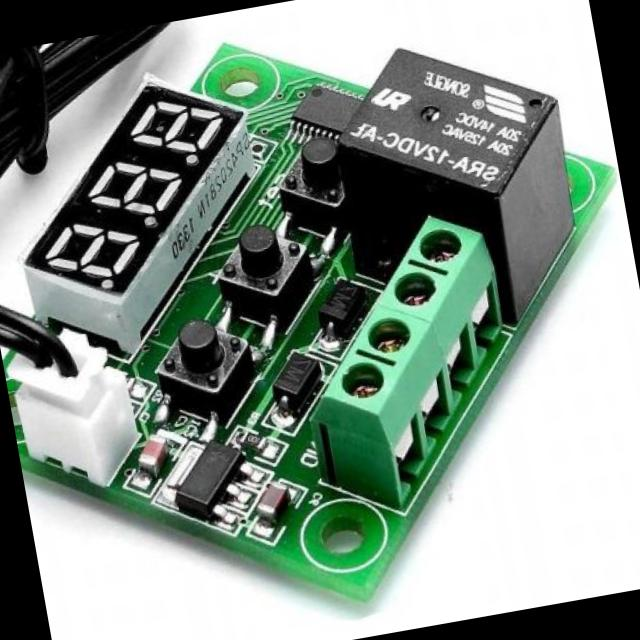IC: (168, 432, 255, 546), (282, 68, 368, 148)
capacitor: (131, 429, 176, 488), (250, 474, 299, 526)
connector: (298, 202, 529, 479), (0, 310, 144, 494)
diode: (311, 264, 371, 330), (268, 348, 320, 414)
resistor: (234, 420, 266, 456)
